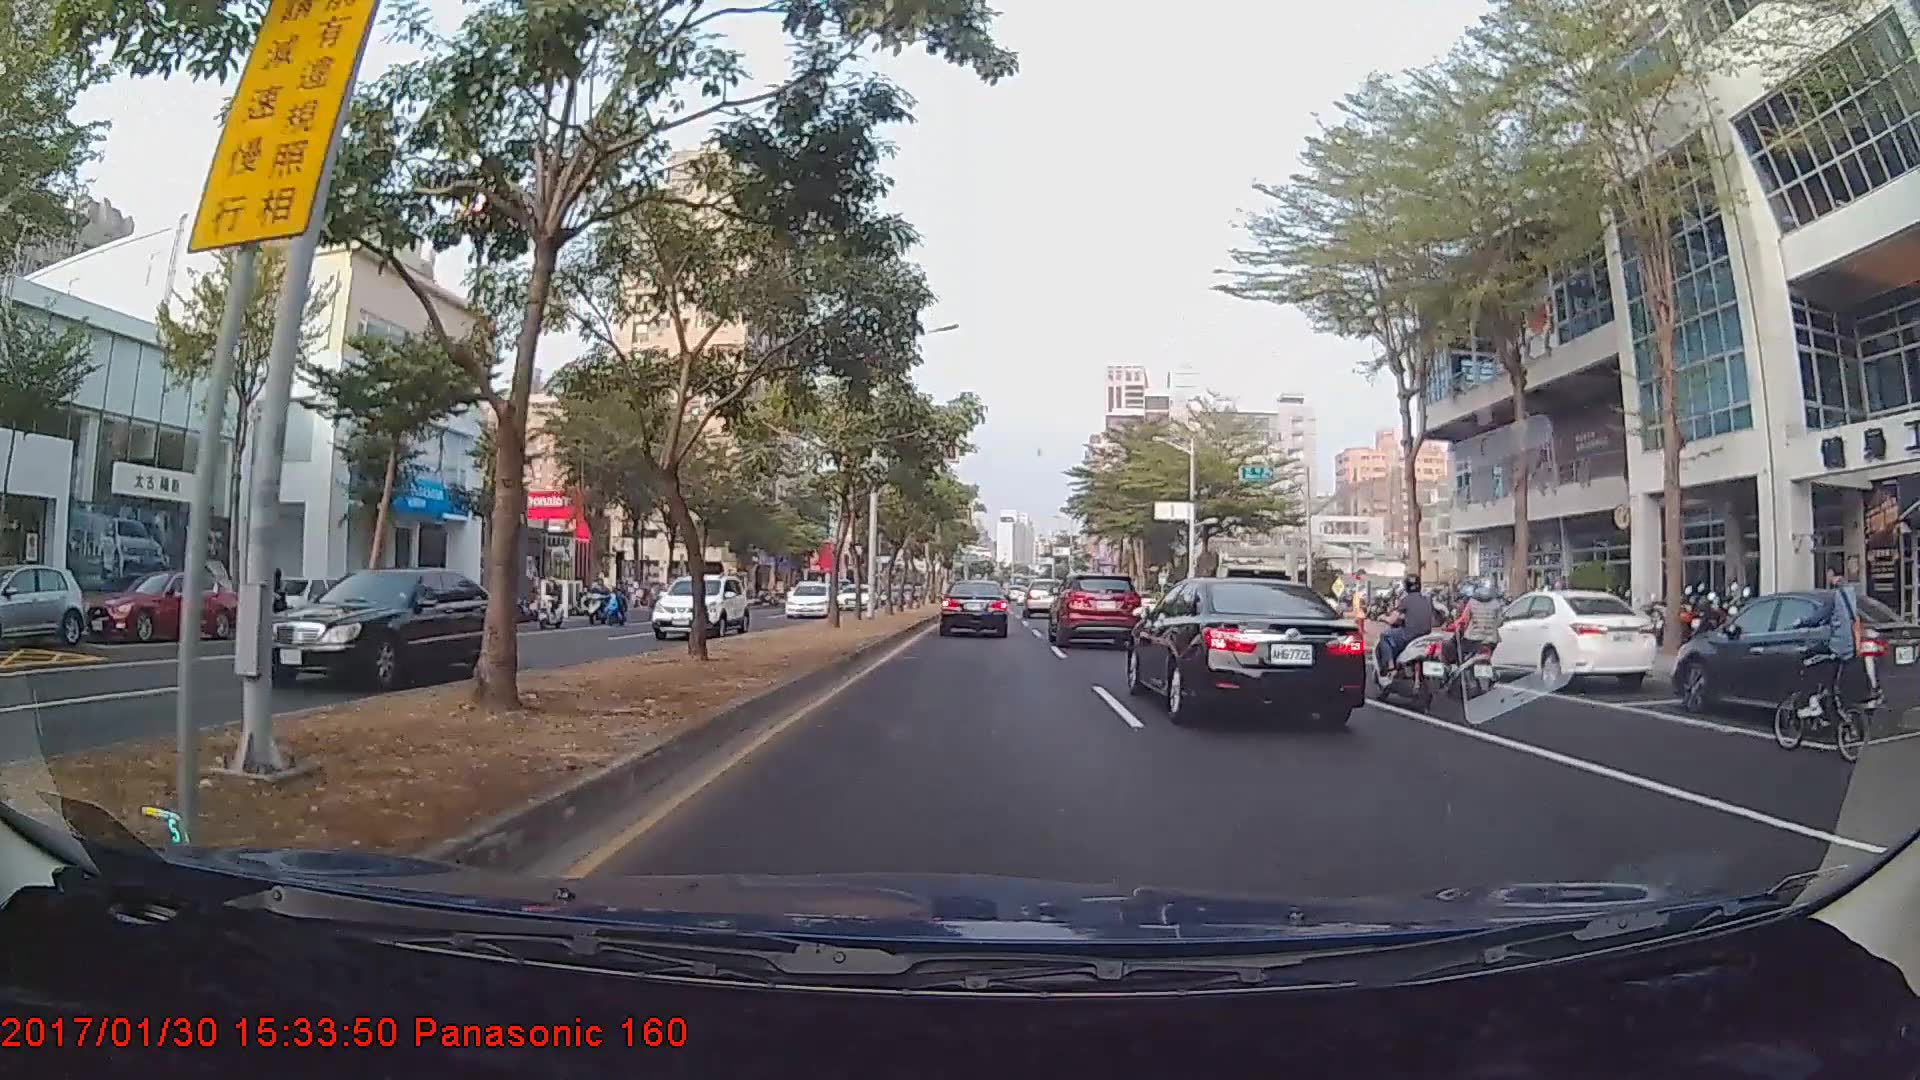rider: (1766, 566, 1886, 764), (1376, 572, 1463, 718), (1442, 578, 1510, 699), (249, 572, 308, 643)
vehicle: (1665, 587, 1920, 735), (1127, 573, 1366, 730), (251, 566, 518, 691), (1487, 585, 1654, 690), (64, 573, 242, 649), (0, 561, 88, 646), (1050, 570, 1139, 649), (649, 573, 751, 642), (939, 579, 1010, 638), (784, 579, 832, 620), (1024, 579, 1056, 616)
